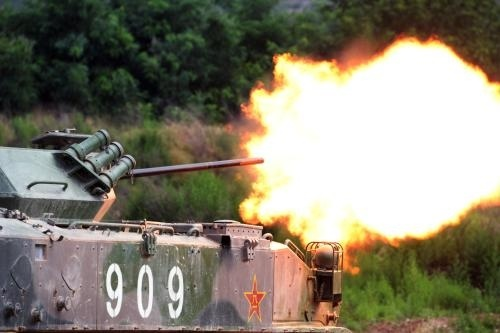fire: (235, 35, 500, 257)
